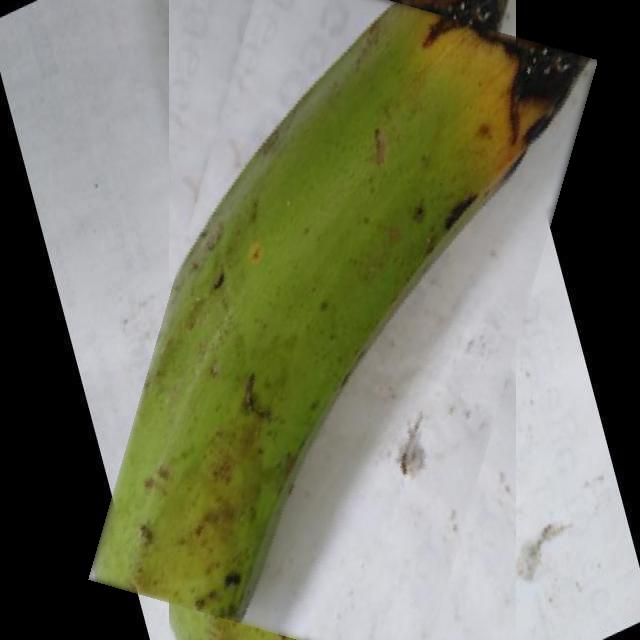Verde: (128, 0, 556, 640)
